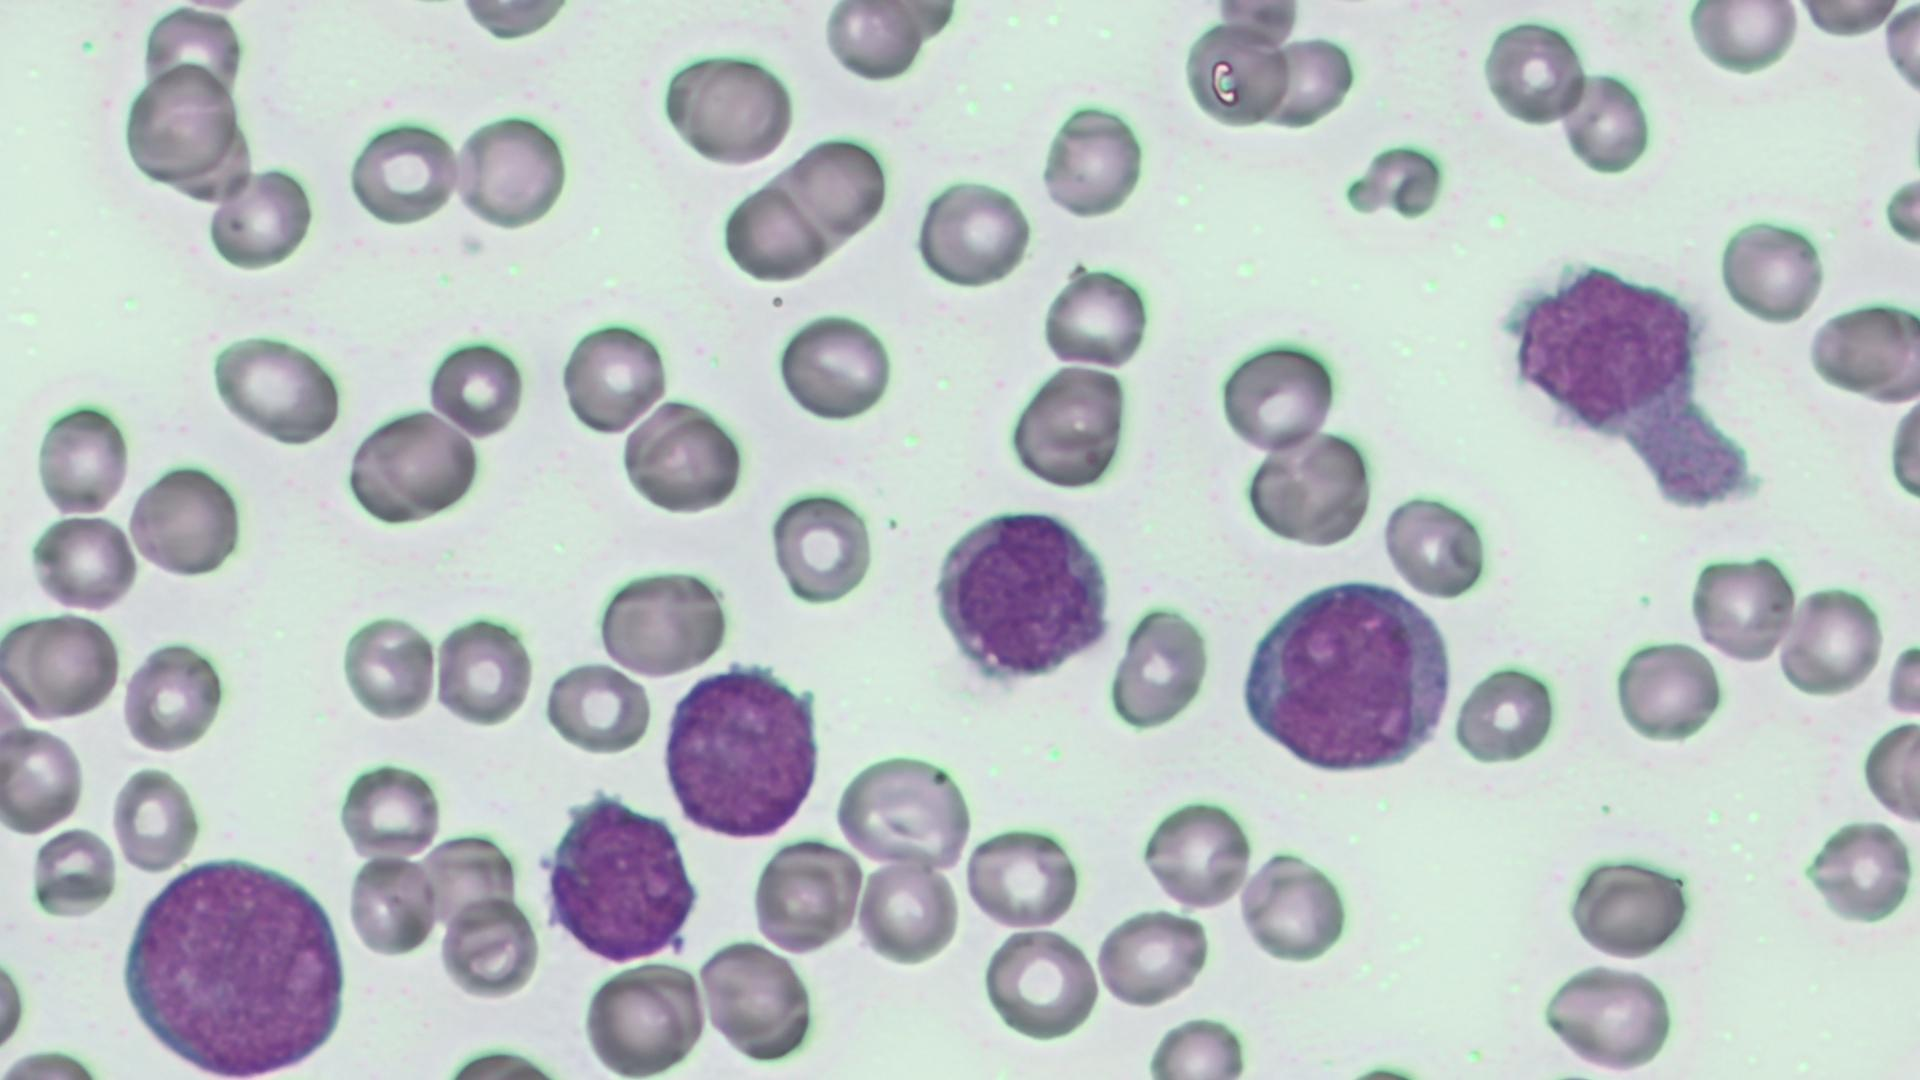Platelets: (1800, 816, 1917, 930), (1498, 302, 1528, 330), (583, 787, 611, 806)
RBC: (829, 750, 977, 872), (1535, 957, 1680, 1073), (659, 47, 796, 169), (1236, 429, 1374, 549), (1560, 843, 1695, 964), (595, 564, 735, 680), (1007, 360, 1133, 489), (1217, 331, 1342, 459), (207, 331, 344, 446), (618, 396, 745, 516), (698, 938, 818, 1064), (352, 404, 481, 520), (556, 313, 673, 440), (117, 59, 237, 182), (125, 458, 243, 582), (913, 173, 1034, 289), (775, 309, 895, 425), (454, 109, 568, 231), (982, 924, 1100, 1040), (578, 963, 696, 1077), (1142, 794, 1255, 914), (767, 483, 877, 607), (1180, 16, 1294, 135), (1797, 816, 1917, 928), (746, 837, 860, 955), (1716, 208, 1826, 328), (1036, 99, 1145, 222), (11, 609, 123, 727), (1480, 12, 1590, 131), (1687, 547, 1797, 666), (963, 823, 1083, 932), (1112, 601, 1213, 731), (1778, 578, 1886, 699), (1238, 848, 1348, 967), (1606, 636, 1724, 742), (348, 116, 459, 228), (1804, 295, 1917, 405), (1379, 487, 1489, 599), (119, 638, 223, 756), (1093, 906, 1213, 1007), (1036, 264, 1150, 371), (206, 164, 315, 272), (1452, 658, 1563, 765), (30, 398, 128, 518), (336, 754, 444, 862), (1553, 65, 1656, 178), (431, 612, 531, 728), (855, 856, 960, 965), (22, 512, 136, 612), (1251, 32, 1360, 135), (425, 334, 526, 443), (338, 611, 438, 721), (719, 183, 828, 284), (789, 135, 890, 240), (440, 894, 539, 1000), (545, 658, 651, 756), (109, 764, 200, 874), (344, 852, 440, 956), (0, 723, 86, 833), (822, 1, 928, 84), (29, 823, 119, 916), (1687, 3, 1800, 74), (1141, 1015, 1253, 1077), (1862, 716, 1920, 827), (1882, 369, 1917, 530), (1205, 1, 1304, 49), (454, 1, 575, 40), (1791, 1, 1905, 41), (1880, 3, 1920, 104)
WBC: (112, 849, 352, 1077), (1226, 575, 1464, 782), (1505, 247, 1706, 444), (928, 500, 1121, 692), (535, 789, 705, 969), (659, 665, 832, 837)
